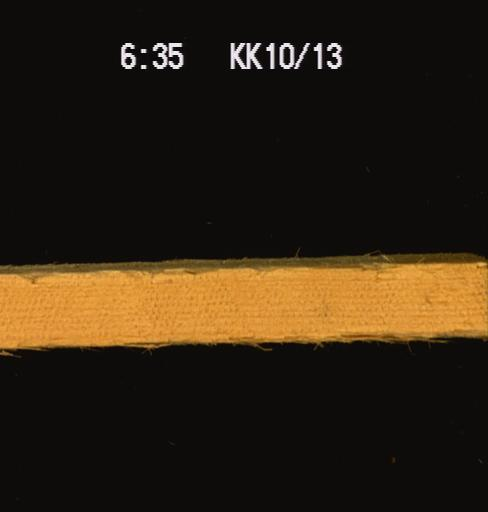wave: (308, 328, 487, 341)
